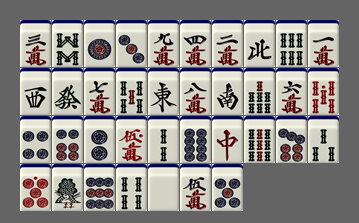0m: (116, 116, 147, 163)
0p: (20, 164, 51, 211)
0s: (308, 68, 339, 115)
1m: (308, 20, 339, 67)
1p: (84, 20, 115, 67)
1s: (52, 164, 83, 211)
1z: (148, 68, 179, 115)
2m: (212, 20, 243, 67)
2p: (84, 116, 115, 163)
2s: (148, 116, 179, 163)
2z: (212, 68, 243, 115)
3m: (20, 20, 51, 67)
3p: (116, 20, 147, 67)
3s: (308, 116, 339, 163)
3z: (20, 68, 51, 115)
4m: (180, 20, 211, 67)
4p: (20, 116, 51, 163)
4s: (116, 164, 147, 211)
4z: (244, 20, 275, 67)
5m: (180, 164, 211, 211)
5p: (212, 164, 243, 211)
5s: (116, 68, 147, 115)
5z: (148, 164, 179, 211)
6m: (276, 68, 307, 115)
6p: (52, 116, 83, 163)
6s: (276, 20, 307, 67)
6z: (52, 68, 83, 115)
7m: (84, 68, 115, 115)
7p: (276, 116, 307, 163)
7s: (244, 68, 275, 115)
7z: (212, 116, 243, 163)
8m: (180, 68, 211, 115)
8p: (180, 116, 211, 163)
8s: (52, 20, 83, 67)
9m: (148, 20, 179, 67)
9p: (84, 164, 115, 211)
9s: (244, 116, 275, 163)
